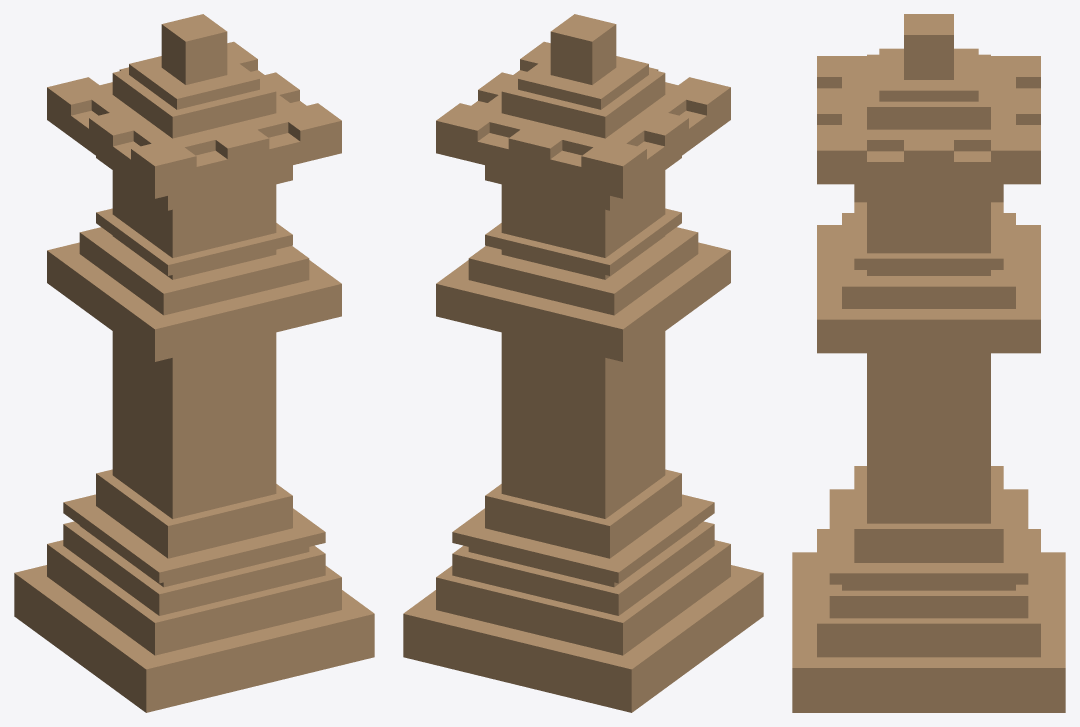
The model's file is white_queen.glb.
3 renders of one model, left to right at view 1: azimuth 30°, elevation 25°; view 2: azimuth 150°, elevation 25°; view 3: azimuth 270°, elevation 25°, orthographic. The views are drawn at different scales.
Visible parts, largest first — view 1: Untitled; view 2: Untitled; view 3: Untitled.
Boxes of the visible parts, x1,y1,x2,y2 form: Untitled: [14, 14, 374, 712]; Untitled: [403, 14, 763, 712]; Untitled: [792, 14, 1065, 712].
Bounding box in the file's own units: 0.66 × 1.68 × 0.66.
Materials: 1 (1 with a texture image).
